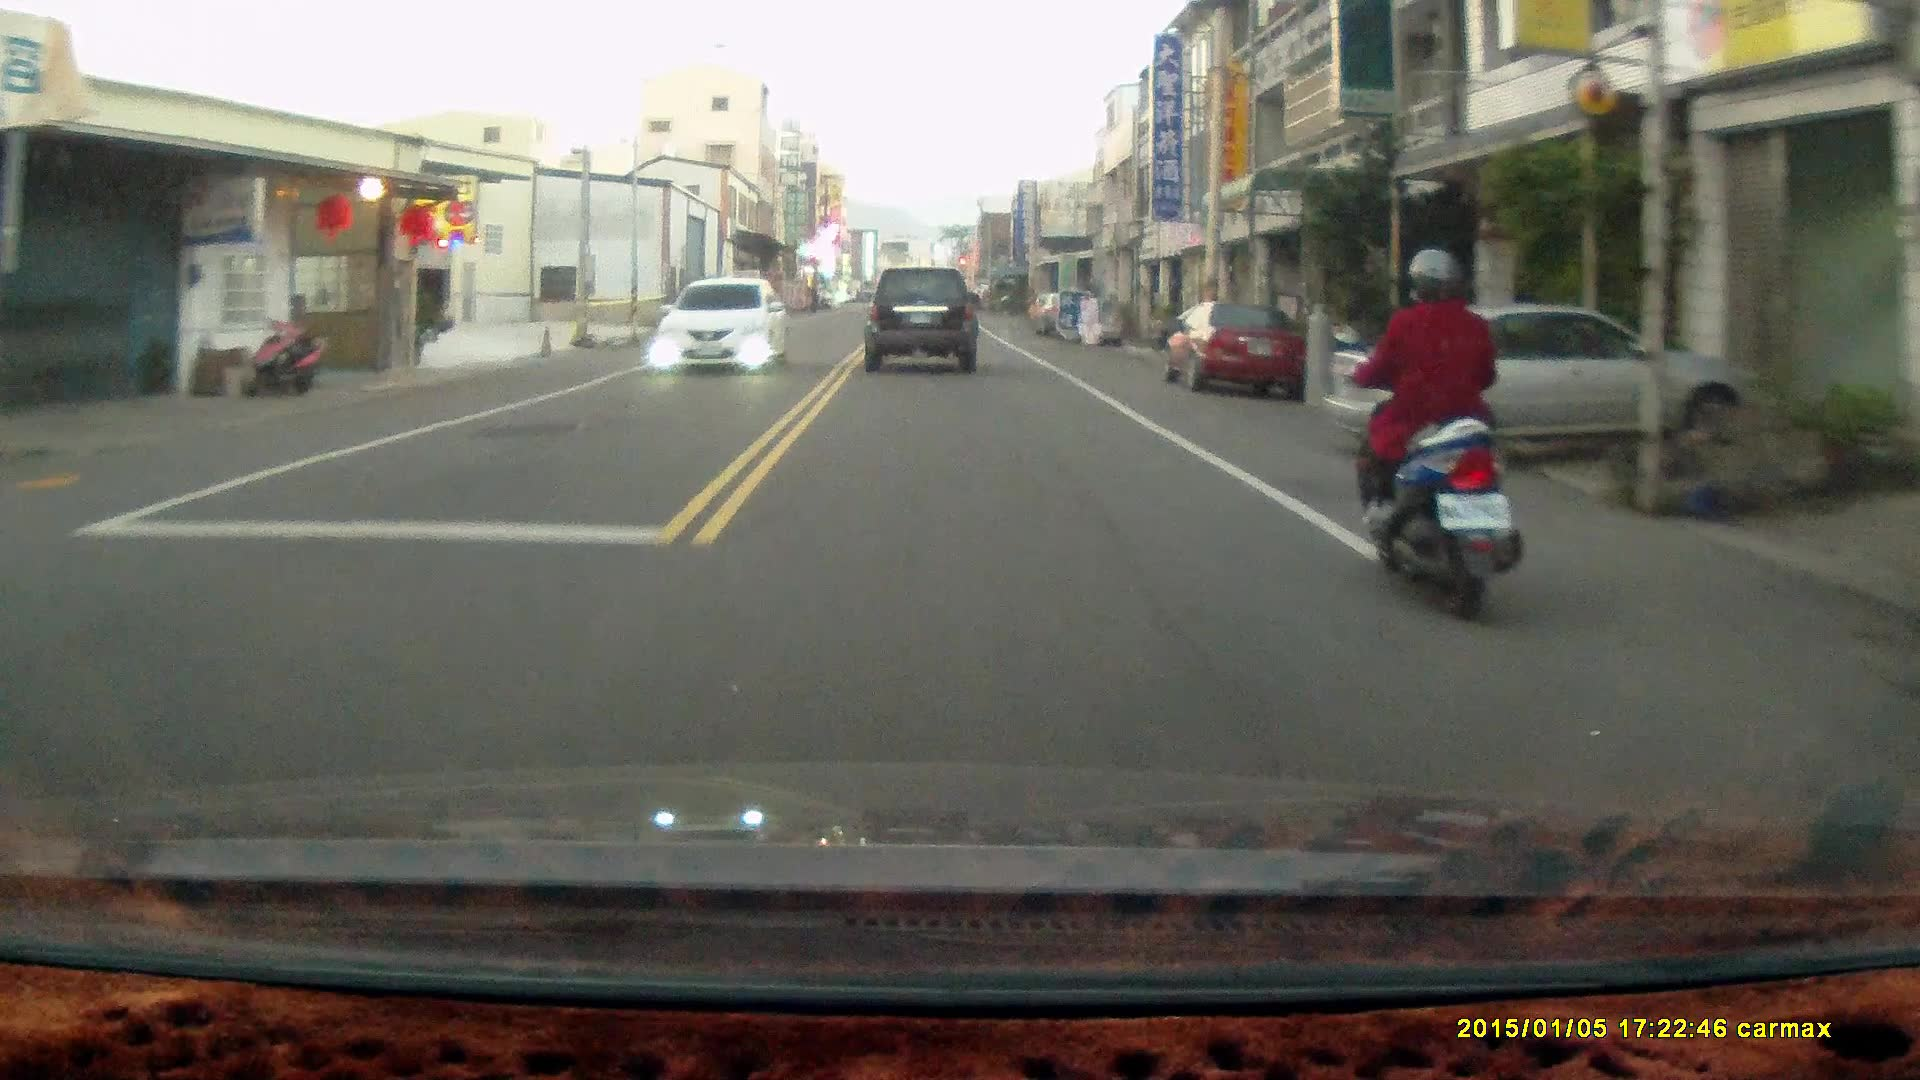rider: (1329, 240, 1522, 618)
vehicle: (1326, 299, 1775, 476), (1161, 300, 1304, 397), (653, 278, 791, 374), (863, 262, 982, 371)
